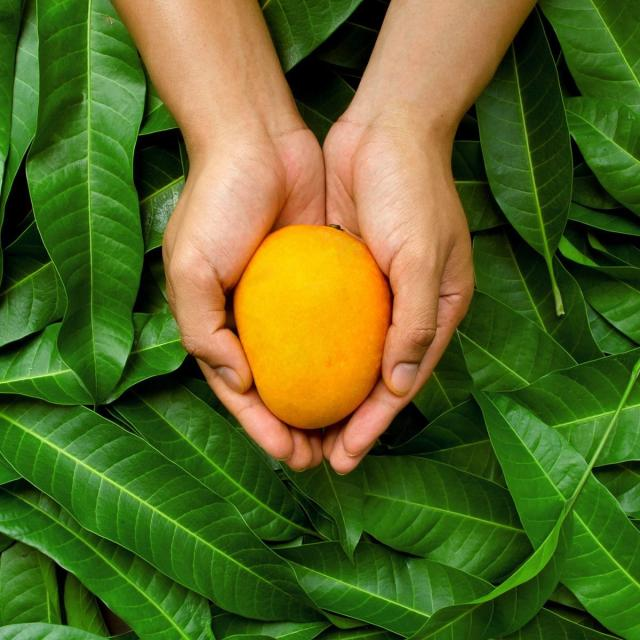mango: (236, 217, 400, 424)
